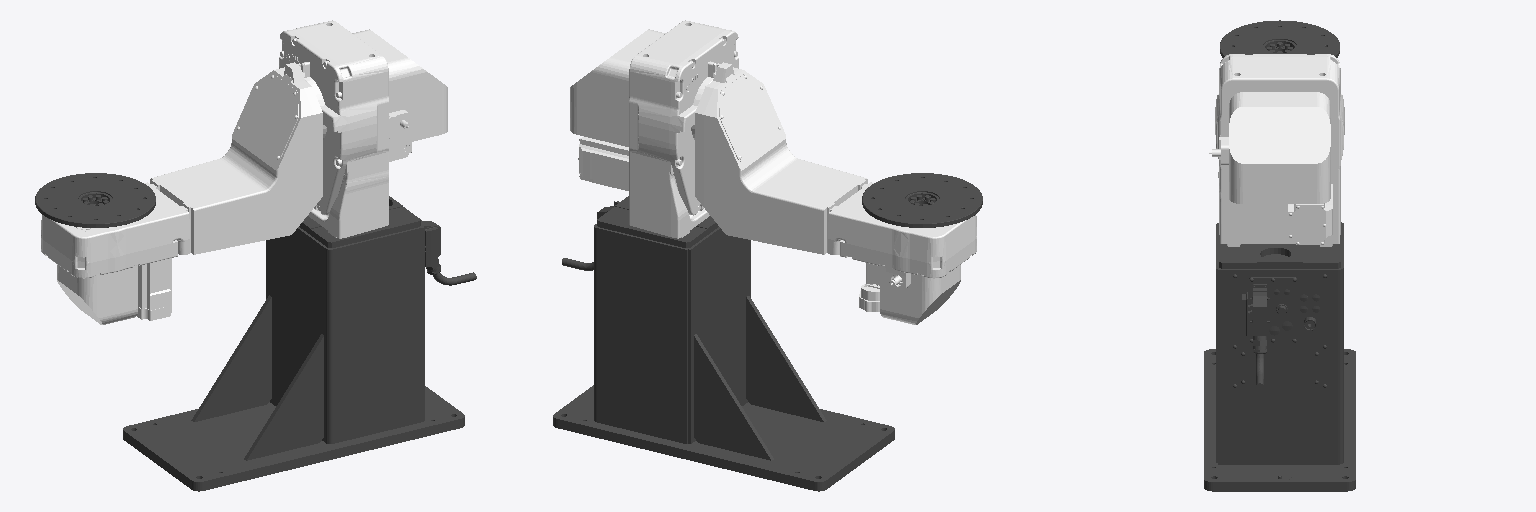
The robot description file, URDF, robot "abb_irbpa250_d1000":
<?xml version="1.0" encoding="utf-8"?>
<!-- =================================================================================== -->
<!-- |    This document was autogenerated by xacro from irbpa250_d1000.xacro           | -->
<!-- |    EDITING THIS FILE BY HAND IS NOT RECOMMENDED                                 | -->
<!-- =================================================================================== -->
<robot name="abb_irbpa250_d1000">
  <!-- link list -->
  <link name="base_link">
    <visual>
      <origin rpy="0 0 0" xyz="0 0 0"/>
      <geometry>
        <mesh filename="package://twc_support/CAD/robot/abb_irbpa250_d1000/urdf/visual/base_link.dae"/>
      </geometry>
    </visual>
    <collision>
      <origin rpy="0 0 0" xyz="0 0 0"/>
      <geometry>
        <mesh filename="package://twc_support/CAD/robot/abb_irbpa250_d1000/urdf/visual/base_link.dae"/>
      </geometry>
    </collision>
  </link>
  <link name="link_1">
    <visual>
      <origin rpy="0 0 0" xyz="0 0 0"/>
      <geometry>
        <mesh filename="package://twc_support/CAD/robot/abb_irbpa250_d1000/urdf/visual/link_1.dae"/>
      </geometry>
    </visual>
    <collision>
      <origin rpy="0 0 0" xyz="0 0 0"/>
      <geometry>
        <mesh filename="package://twc_support/CAD/robot/abb_irbpa250_d1000/urdf/visual/link_1.dae"/>
      </geometry>
    </collision>
  </link>
  <link name="link_2">
    <visual>
      <origin rpy="0 0 0" xyz="0 0 0"/>
      <geometry>
        <mesh filename="package://twc_support/CAD/robot/abb_irbpa250_d1000/urdf/visual/link_2.dae"/>
      </geometry>
    </visual>
    <collision>
      <origin rpy="0 0 0" xyz="0 0 0"/>
      <geometry>
        <mesh filename="package://twc_support/CAD/robot/abb_irbpa250_d1000/urdf/visual/link_2.dae"/>
      </geometry>
    </collision>
  </link>
  <link name="tool0"/>
  <!-- end of link list -->
  <!-- joint list -->
  <joint name="base_joint" type="revolute">
    <origin rpy="0 0 0" xyz="0.733 0 1.020"/>
    <parent link="base_link"/>
    <child link="link_1"/>
    <axis xyz="1 0 0"/>
    <limit effort="0" lower="-6.28319" upper="6.28319" velocity="1.4834"/>
  </joint>
  <joint name="joint_1" type="revolute">
    <origin rpy="0 0 0" xyz="-0.733 0 0"/>
    <parent link="link_1"/>
    <child link="link_2"/>
    <axis xyz="0 0 1"/>
    <limit effort="0" lower="-6.28319" upper="6.28319" velocity="1.4834"/>
  </joint>
  <joint name="joint_2_tool0" type="fixed">
    <origin rpy="0 0 0" xyz="0 0 0.10487"/>
    <parent link="link_2"/>
    <child link="tool0"/>
  </joint>
  <!-- end of joint list -->
</robot>

--- Render facts (derived) ---
Views: 3 orthographic renders of the robot side by side, from view 1: azimuth 30°, elevation 25°; view 2: azimuth 150°, elevation 25°; view 3: azimuth 270°, elevation 25°.
Robot: abb_irbpa250_d1000 — 4 links, 3 joints (2 revolute, 1 fixed); root link base_link; default pose: all joints at 0.
Links seen in each view (by area): view 1: base_link, link_1, link_2; view 2: base_link, link_1, link_2; view 3: base_link, link_2.
Link boxes in pixels (x1,y1,x2,y2): base_link: [123, 20, 476, 491]; link_1: [41, 62, 322, 324]; link_2: [35, 173, 155, 227]; base_link: [553, 20, 894, 491]; link_1: [695, 62, 976, 324]; link_2: [862, 173, 982, 227]; base_link: [1204, 54, 1355, 491]; link_2: [1220, 20, 1339, 57].
Size in the robot's own frame: 1.41 by 0.44 by 1.21 metres.
Meshes: 3 distinct files referenced, 3 mesh visuals loaded (3 Collada DAE).